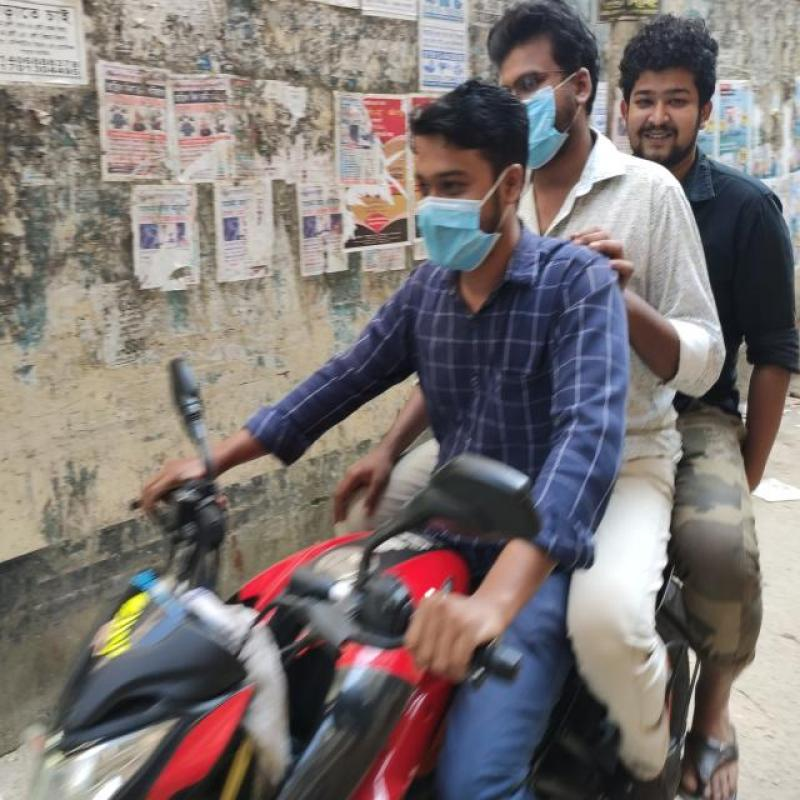nohelmet: (396, 80, 536, 274), (610, 28, 728, 174)
